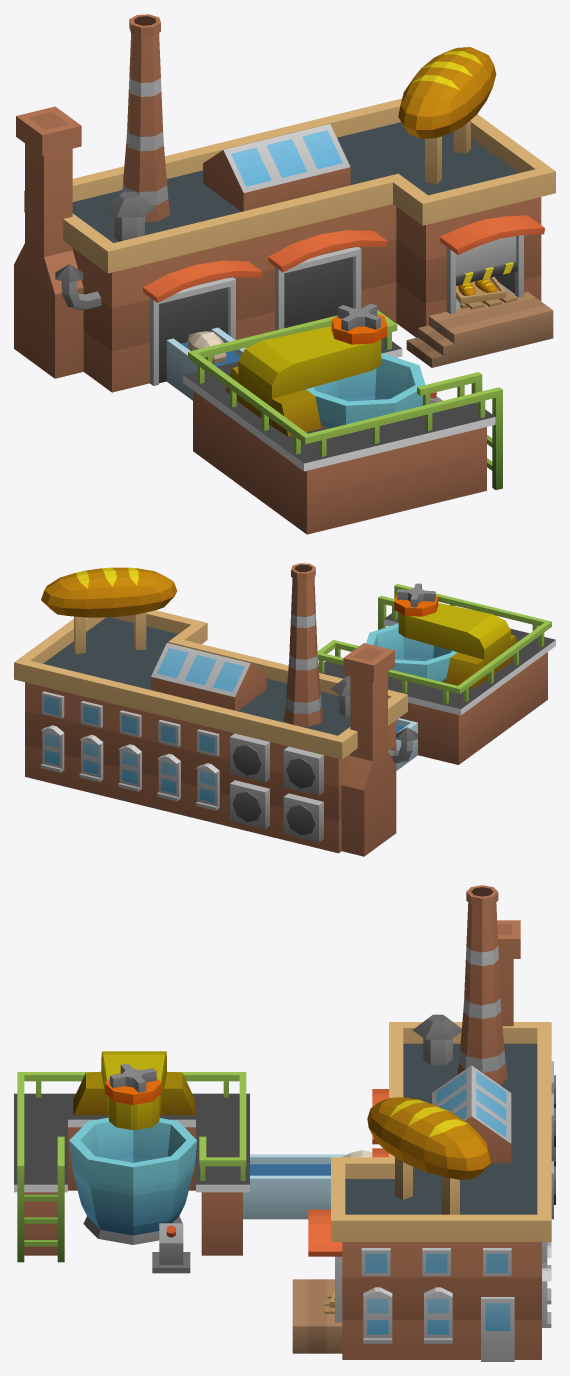
File: bakery house.fbx
3 renders of one model, top to bottom at view 1: azimuth 30°, elevation 25°; view 2: azimuth 150°, elevation 25°; view 3: azimuth 270°, elevation 25°, orthographic. The views are drawn at different scales.
Visible parts, largest first — view 1: bakery_house, _bakery_mechanism_rotate, pastry; view 2: bakery_house, _bakery_mechanism_rotate; view 3: bakery_house, _bakery_mechanism_rotate, trigger_mechanism.
Part boxes in pixels (x1=…): bakery_house: x1=14, y1=14, x2=555, y2=534; _bakery_mechanism_rotate: x1=331, y1=303, x2=387, y2=344; pastry: x1=187, y1=331, x2=226, y2=363; bakery_house: x1=14, y1=563, x2=555, y2=856; _bakery_mechanism_rotate: x1=394, y1=583, x2=438, y2=616; bakery_house: x1=14, y1=885, x2=555, y2=1361; _bakery_mechanism_rotate: x1=105, y1=1063, x2=161, y2=1104; trigger_mechanism: x1=152, y1=1223, x2=190, y2=1273.
Size of the model in its own units: 1538 by 1037 by 1624.
1 material, 1 textured.
